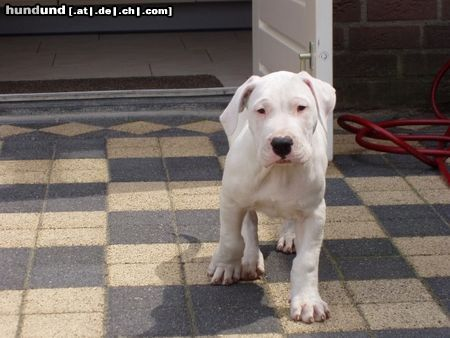dogo_argentino: (204, 70, 335, 323)
